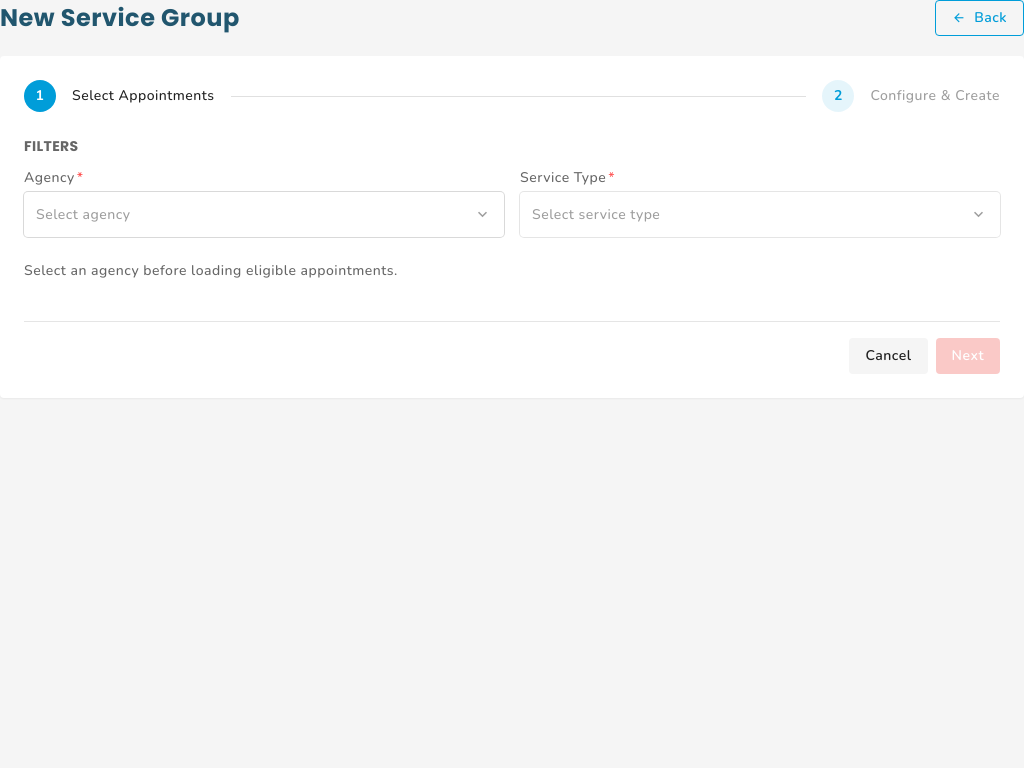
Test: ServiceGroupCreatePage › shows eligible appointments after selecting service type
Click the button labelled "Select agency" at (83, 214), box [24,192,504,237]
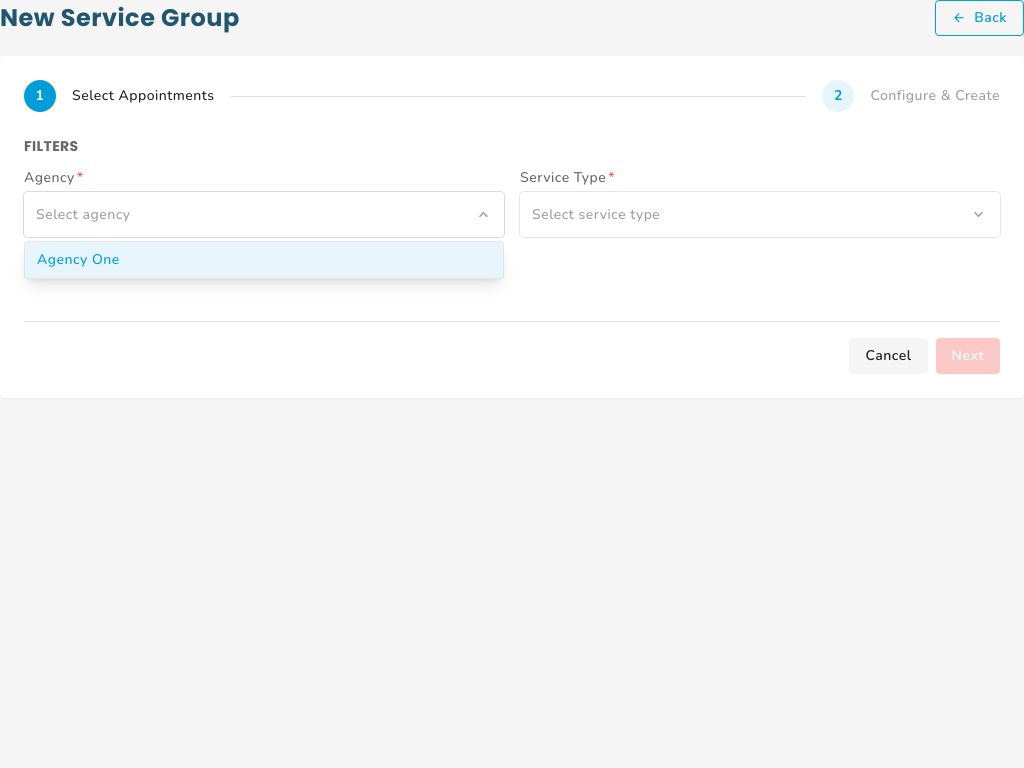
Click the option "Agency One" at (78, 260), box [25,242,503,278]
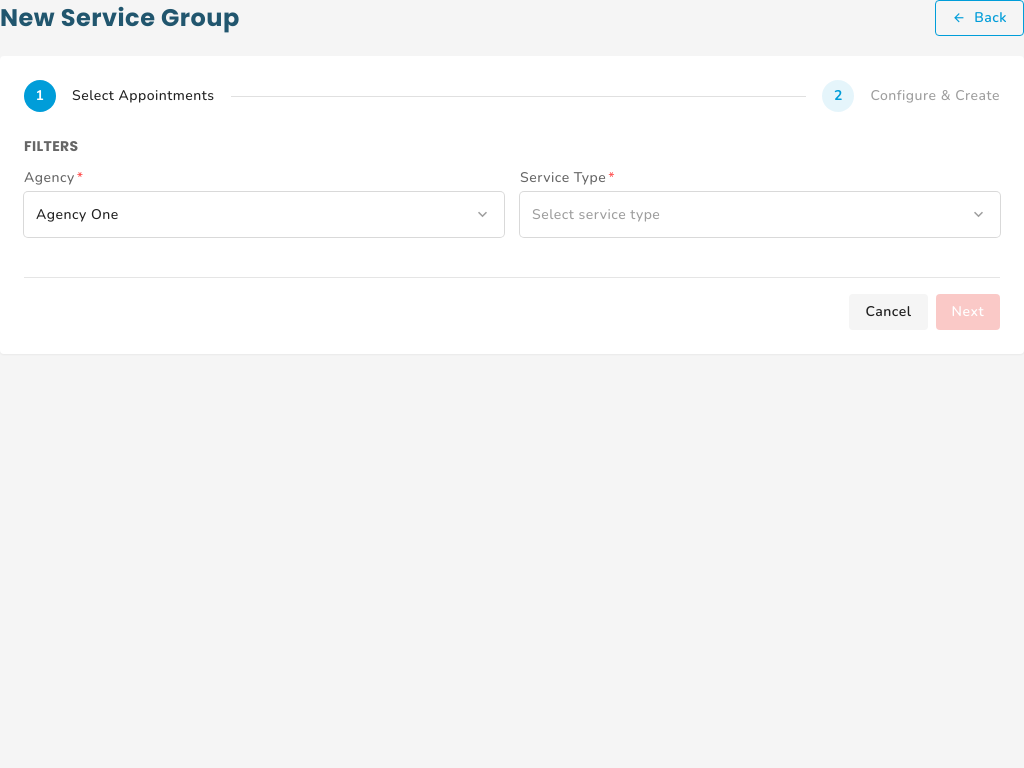
Click the button labelled "Select service type" at (596, 214), box [520,192,1000,237]
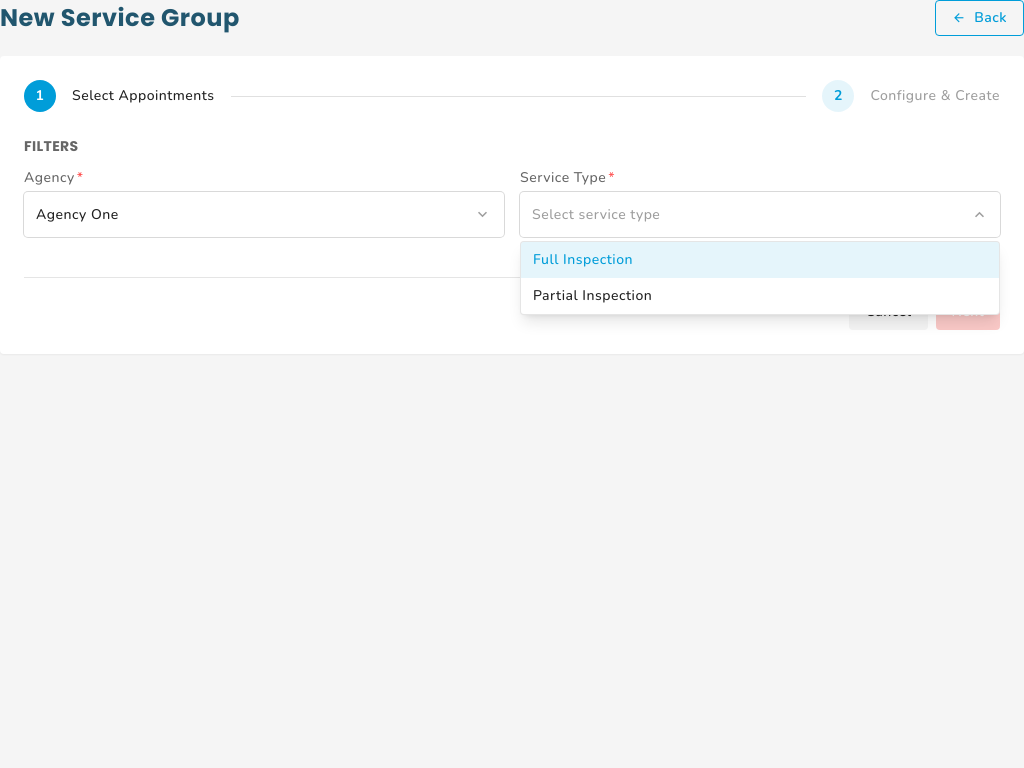
Click the option "Full Inspection" at (583, 260), box [521,242,999,278]
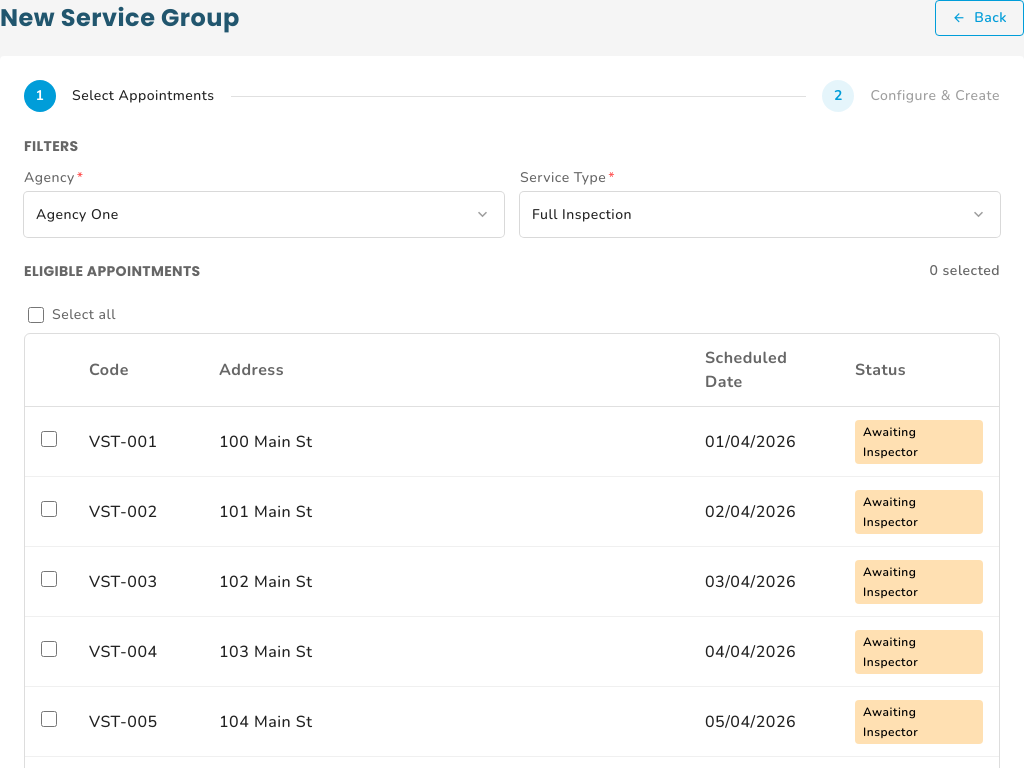
Now the heading "Eligible Appointments" is shown, box [24,261,200,281]
